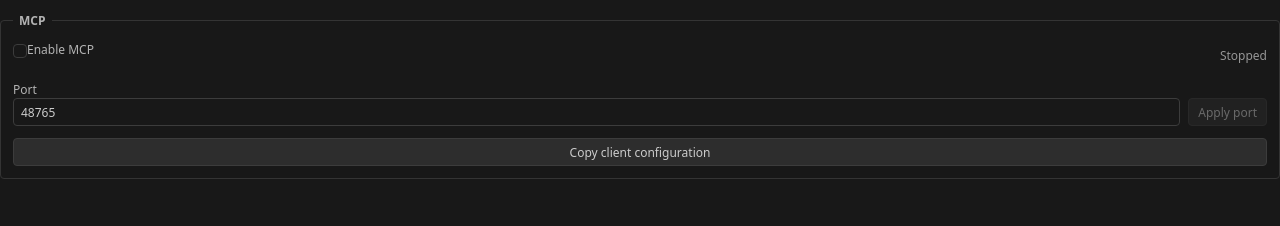
Test: keeps the applied switch state and displays a failed change
Click the checkbox labelled "Enable MCP" at (20, 51), box [13, 44, 27, 58]
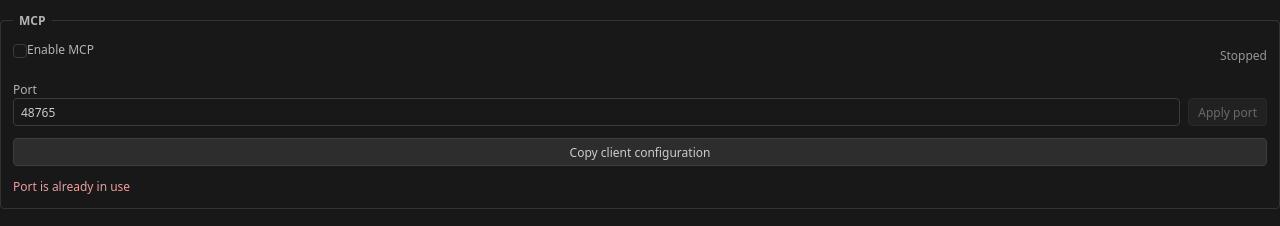
Expected: the message "Port is already in use" is shown, [13, 178, 130, 195]
